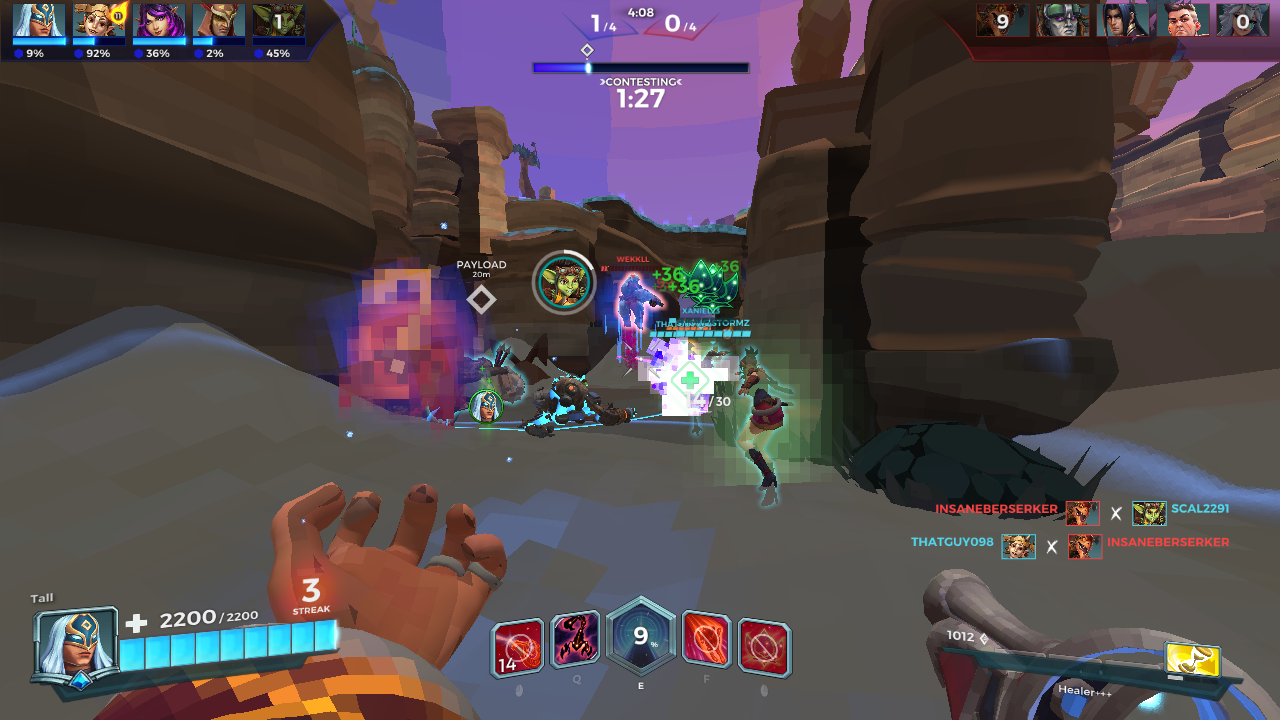model: (612, 267, 661, 335)
